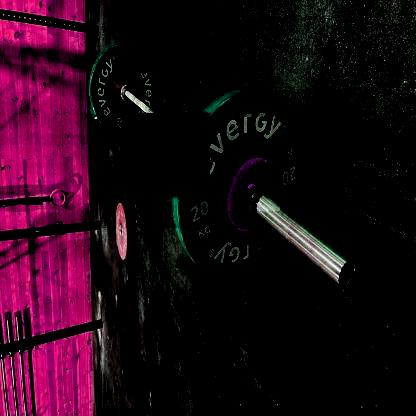barbell: (103, 230, 249, 410), (210, 118, 281, 212)
